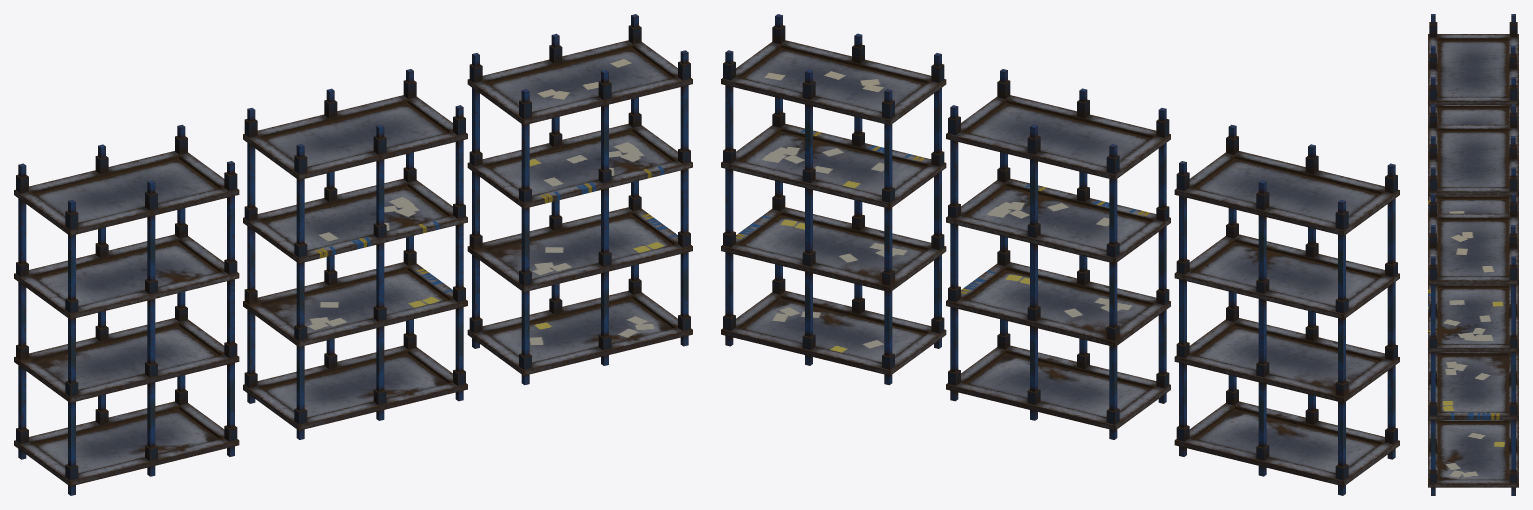
The model's file is Metal Rack Shelf 2K Textures.glb.
The picture shows the model from 3 angles, left to right: view 1: azimuth 30°, elevation 25°; view 2: azimuth 150°, elevation 25°; view 3: azimuth 270°, elevation 25°; orthographic projection. The views are drawn at different scales.
Visible parts, largest first — view 1: metal_shelf_rack_mesh_02, metal_shelf_rack_mesh_03, metal_shelf_rack_mesh_01; view 2: metal_shelf_rack_mesh_02, metal_shelf_rack_mesh_03, metal_shelf_rack_mesh_01; view 3: metal_shelf_rack_mesh_03, metal_shelf_rack_mesh_01, metal_shelf_rack_mesh_02.
Boxes of the visible parts, bbox=[...] form: metal_shelf_rack_mesh_02: bbox=[243, 69, 467, 439]; metal_shelf_rack_mesh_03: bbox=[467, 14, 692, 385]; metal_shelf_rack_mesh_01: bbox=[14, 124, 239, 495]; metal_shelf_rack_mesh_02: bbox=[946, 69, 1170, 439]; metal_shelf_rack_mesh_03: bbox=[721, 14, 946, 385]; metal_shelf_rack_mesh_01: bbox=[1174, 124, 1399, 495]; metal_shelf_rack_mesh_03: bbox=[1428, 193, 1518, 495]; metal_shelf_rack_mesh_01: bbox=[1428, 14, 1518, 124]; metal_shelf_rack_mesh_02: bbox=[1428, 104, 1518, 213].
Bounding box in the file's own units: 5.12 × 2.3 × 0.7971.
Materials: 3 (3 with a texture image).
